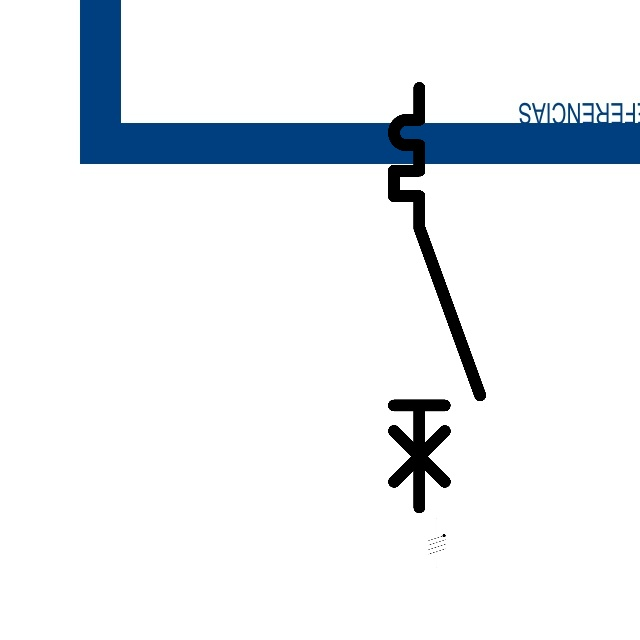interruptor_termomagnetico: (383, 77, 491, 518)
